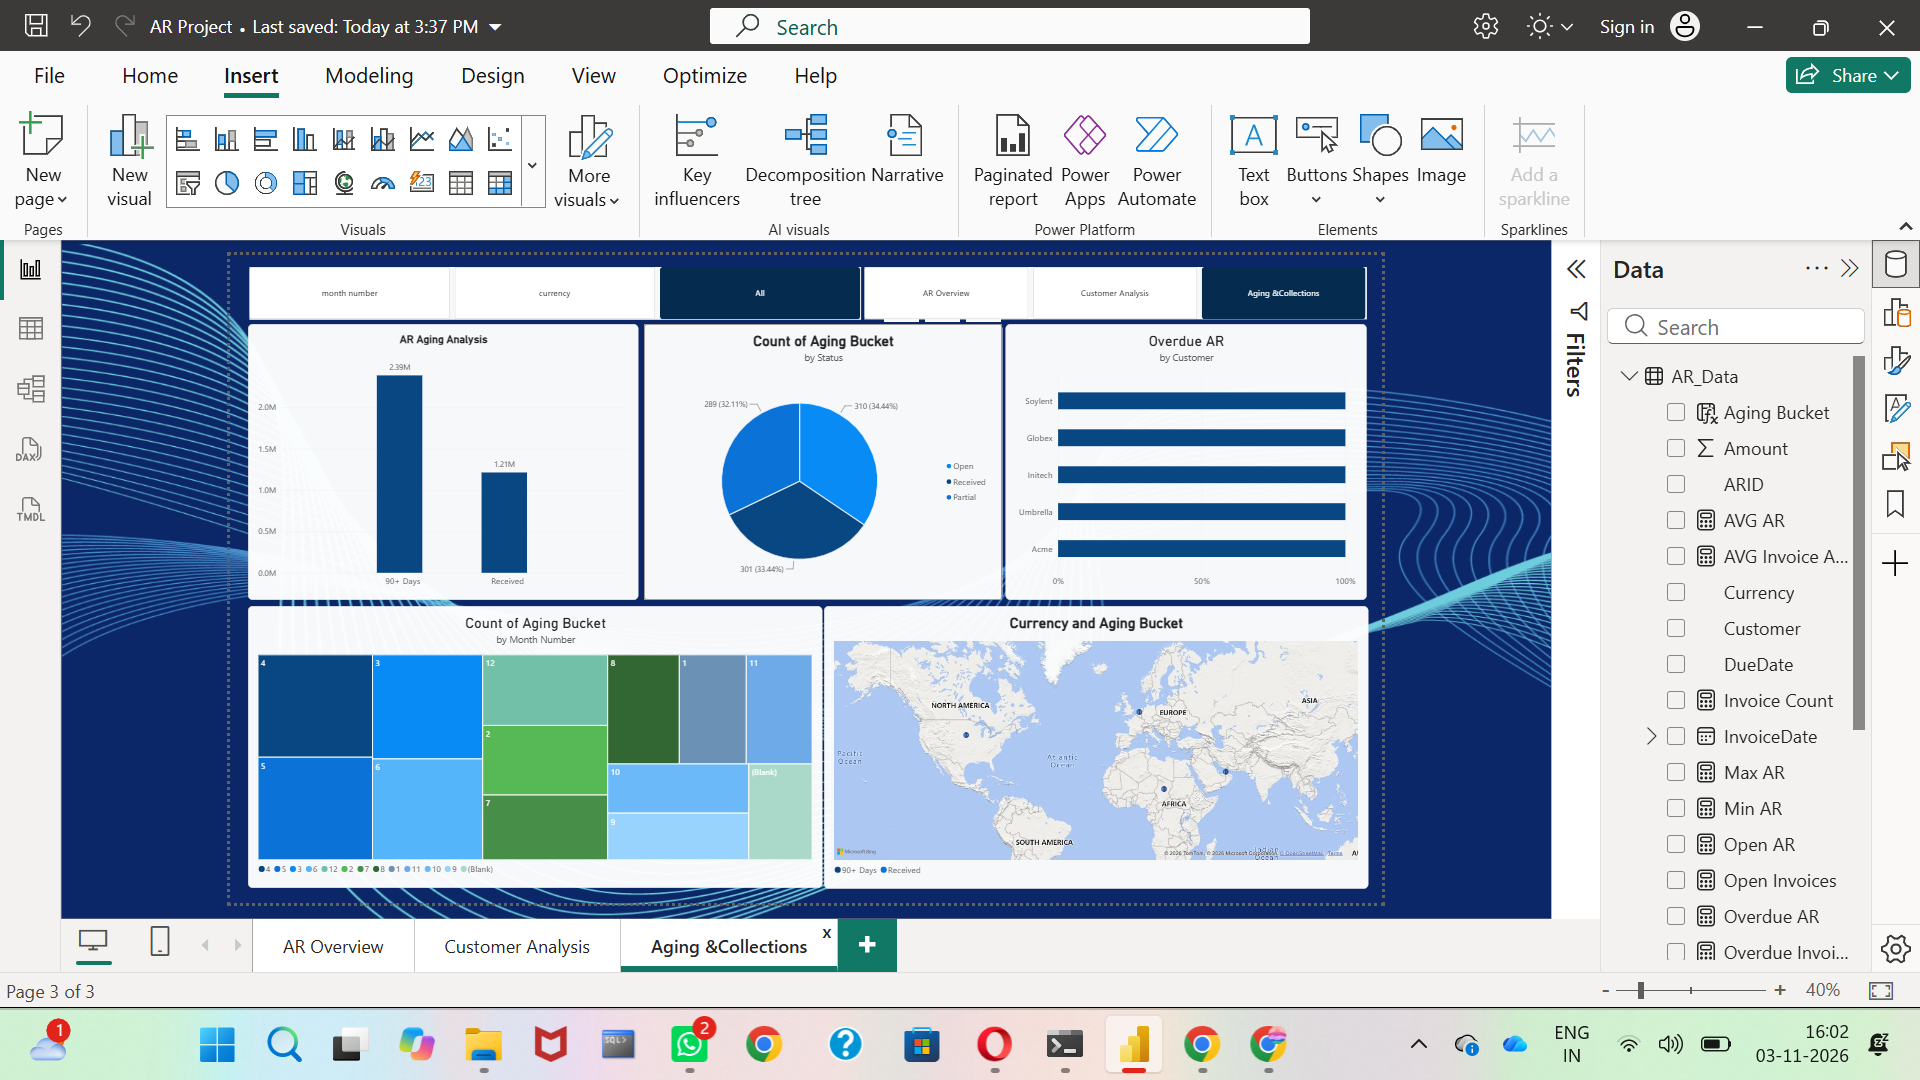

The dashboard page shown, as its layout file describes it:
{"tool":"powerbi","page":{"name":"Aging &Collections","canvas":[1920,1080],"ordinal":2},"visuals":[{"type":"columnChart","title":"AR Aging Analysis","fields":{"Category":["AR_Data.Aging Bucket"],"Y":["AR_Data.Total AR"]},"box":[30,115.5,650.9,460],"z":0},{"type":"hundredPercentStackedBarChart","fields":{"Category":["AR_Data.Customer"],"Y":["AR_Data.Overdue AR"]},"box":[1293.6,115.5,601.8,460],"z":1000},{"type":"pieChart","fields":{"Category":["AR_Data.Status"],"Y":["CountNonNull(AR_Data.Aging Bucket)"]},"box":[689.1,115.5,597.3,460],"z":2000},{"type":"treemap","fields":{"Group":["DateTable.Month Number","DateTable.Month"],"Values":["CountNonNull(AR_Data.Aging Bucket)"]},"box":[30,585,957.5,470],"z":3000},{"type":"map","fields":{"Category":["AR_Data.Currency","AR_Data.Customer"],"Series":["AR_Data.Aging Bucket"]},"box":[989,585,907,471],"z":4000},{"type":"bookmarkNavigator","box":[32.5,20,1862.5,87.5],"z":5000}]}

Visuals, with their boxes on the page's 1920x1080 design canvas (x1, y1, x2, y2). These are canvas units, not pixel positions in the 1920x1080 screenshot, which may show the page scaled, cropped or inside an application window:
"AR Aging Analysis" columnChart: bbox=(30, 116, 681, 576)
hundredPercentStackedBarChart - AR_Data.Customer x AR_Data.Overdue AR: bbox=(1294, 116, 1895, 576)
pieChart - AR_Data.Status x CountNonNull(AR_Data.Aging Bucket): bbox=(689, 116, 1286, 576)
treemap - DateTable.Month Number x DateTable.Month: bbox=(30, 585, 988, 1055)
map - AR_Data.Currency x AR_Data.Customer: bbox=(989, 585, 1896, 1056)
bookmarkNavigator: bbox=(32, 20, 1895, 108)
